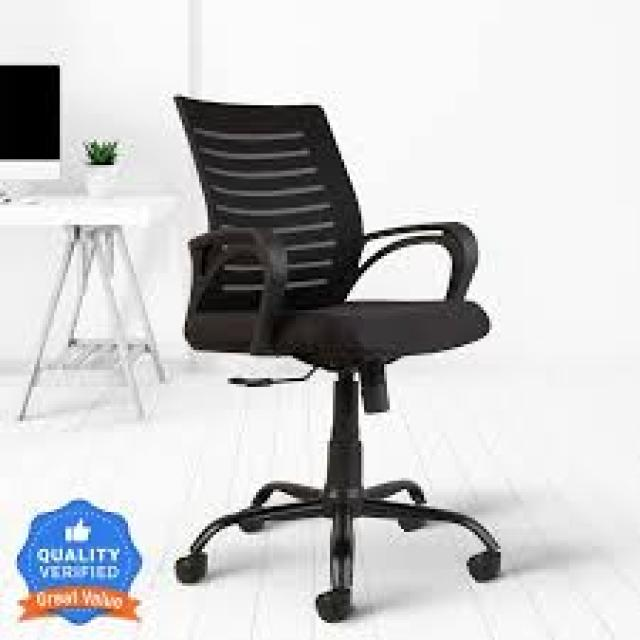chair: (110, 71, 536, 640)
